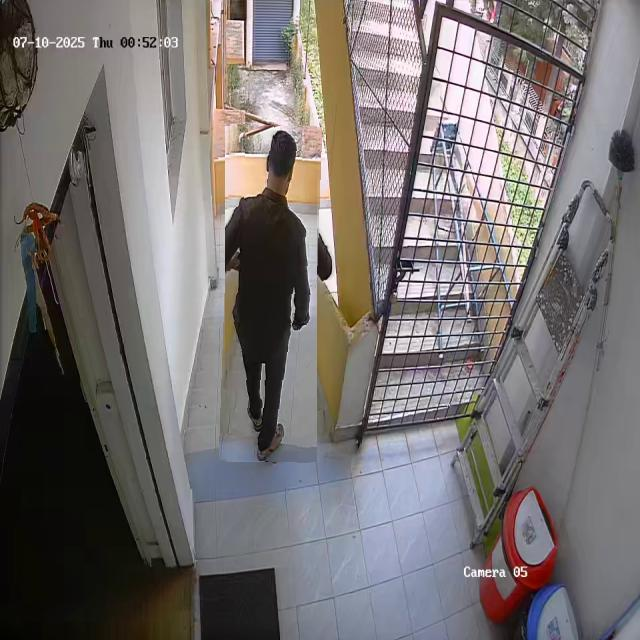person: (222, 125, 320, 463)
